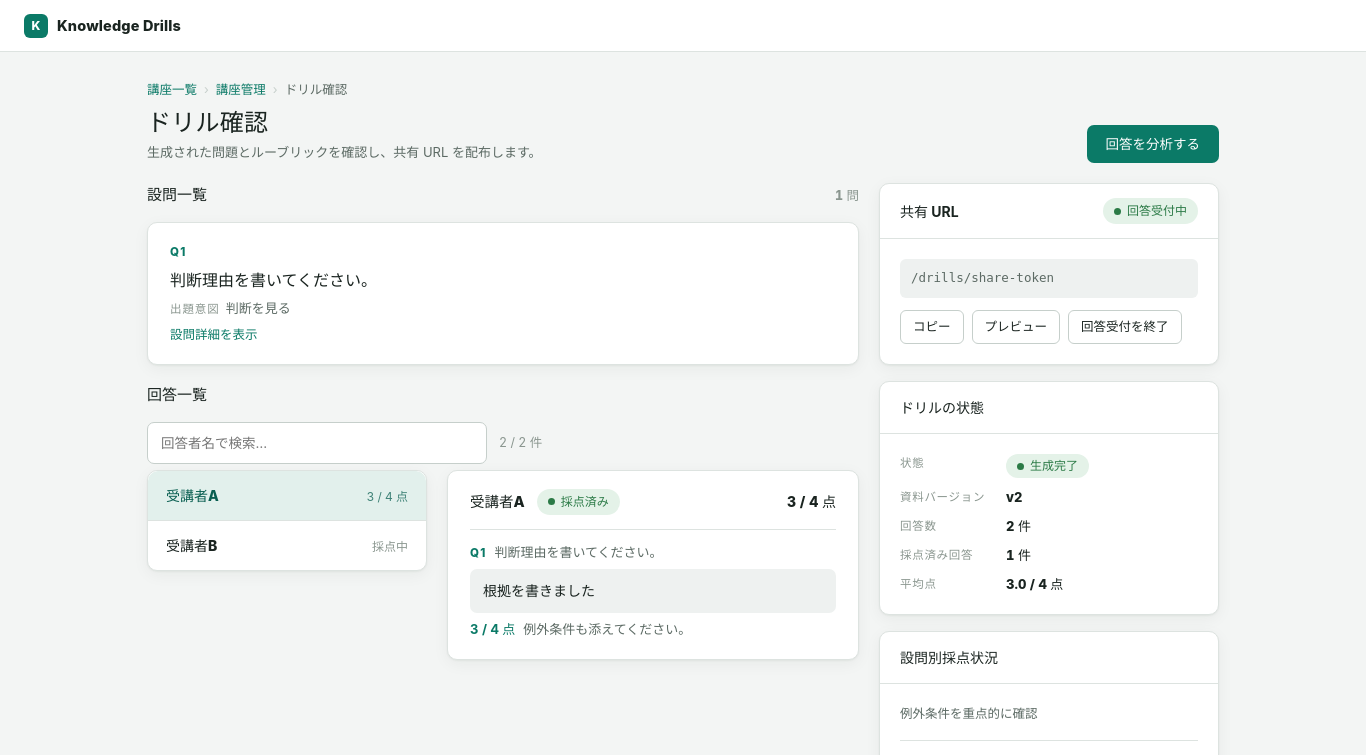
Scenario: DrillAdminPage › closes and reopens answer collection while keeping the stable URL
Step 1. Click the button "回答受付を終了" → click(1125, 327), box [1068,310,1182,344]
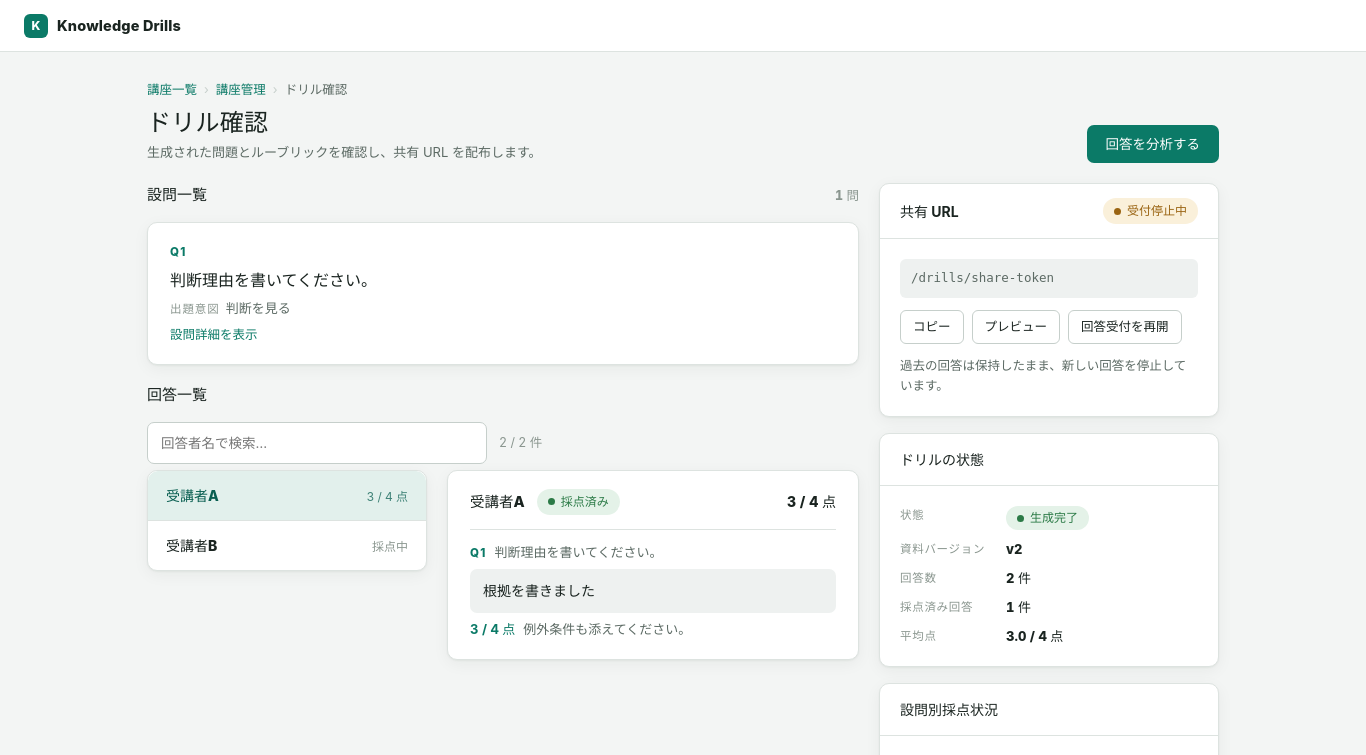
Expected: the text "/drills/share-token" is shown, [900,259,1198,298]
Expected: the text "受付停止中" is shown, [1103,198,1198,224]
Expected: the text "過去の回答は保持したまま、新しい回答を停止しています。" is shown, [900,356,1198,396]
Step 2. Click the button "回答受付を再開" → click(1125, 327), box [1068,310,1182,344]
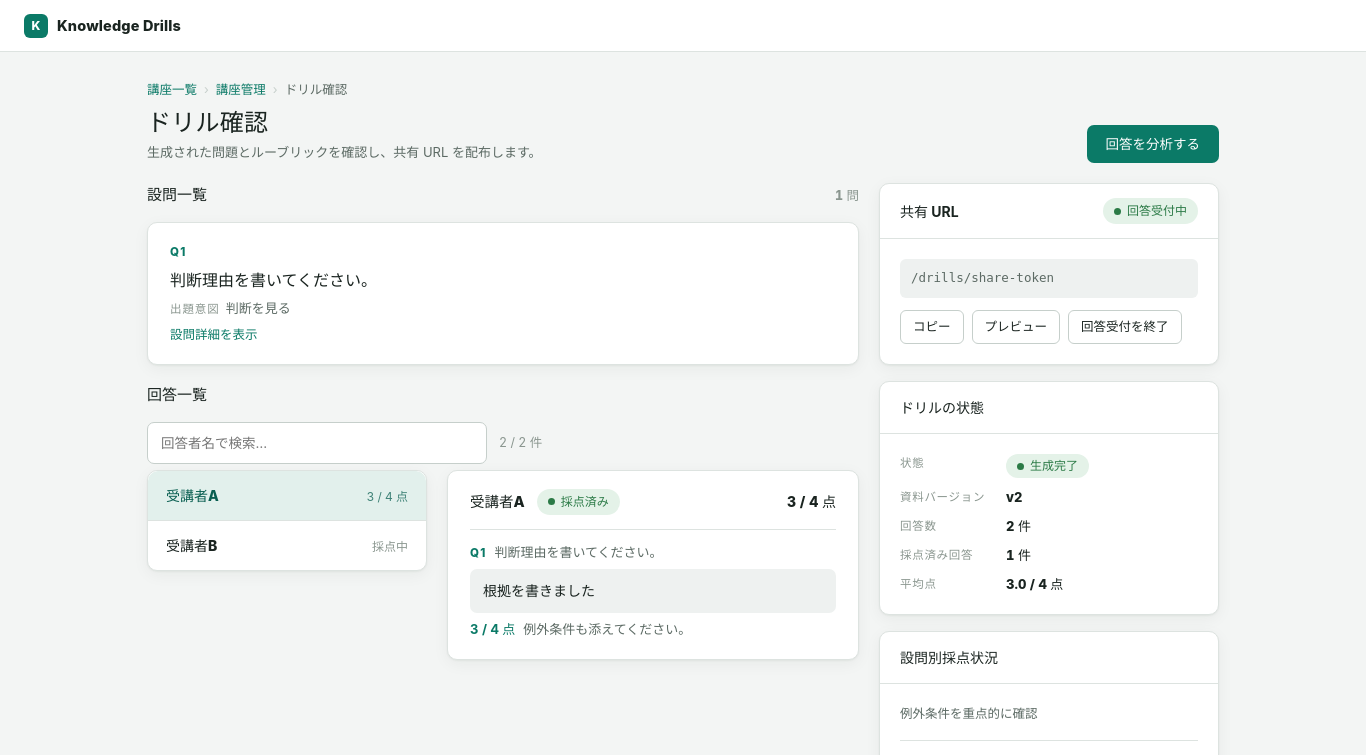
Expected: the text "回答受付中" is shown, [1103,198,1198,224]
